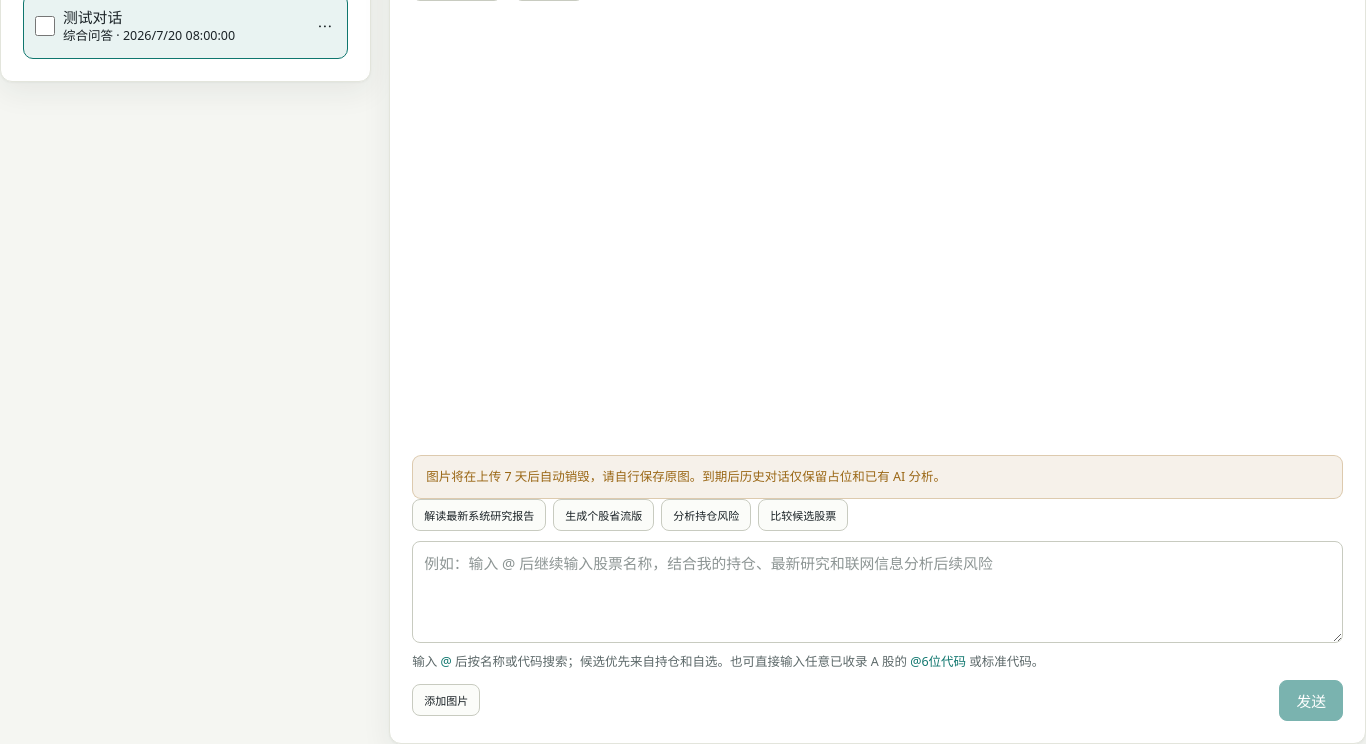
Test case: chat safety and observability › preserves a selected stock mention when appending a quick question
This screenshot has width=1366, height=744.
(page scrolled)
In the text box with placeholder "例如：输入 @ 后继续输入股票名称，结合我的持仓、最新研究和联网信息分析后续风险": (878, 592) [412,541,1343,643], type "@茅"
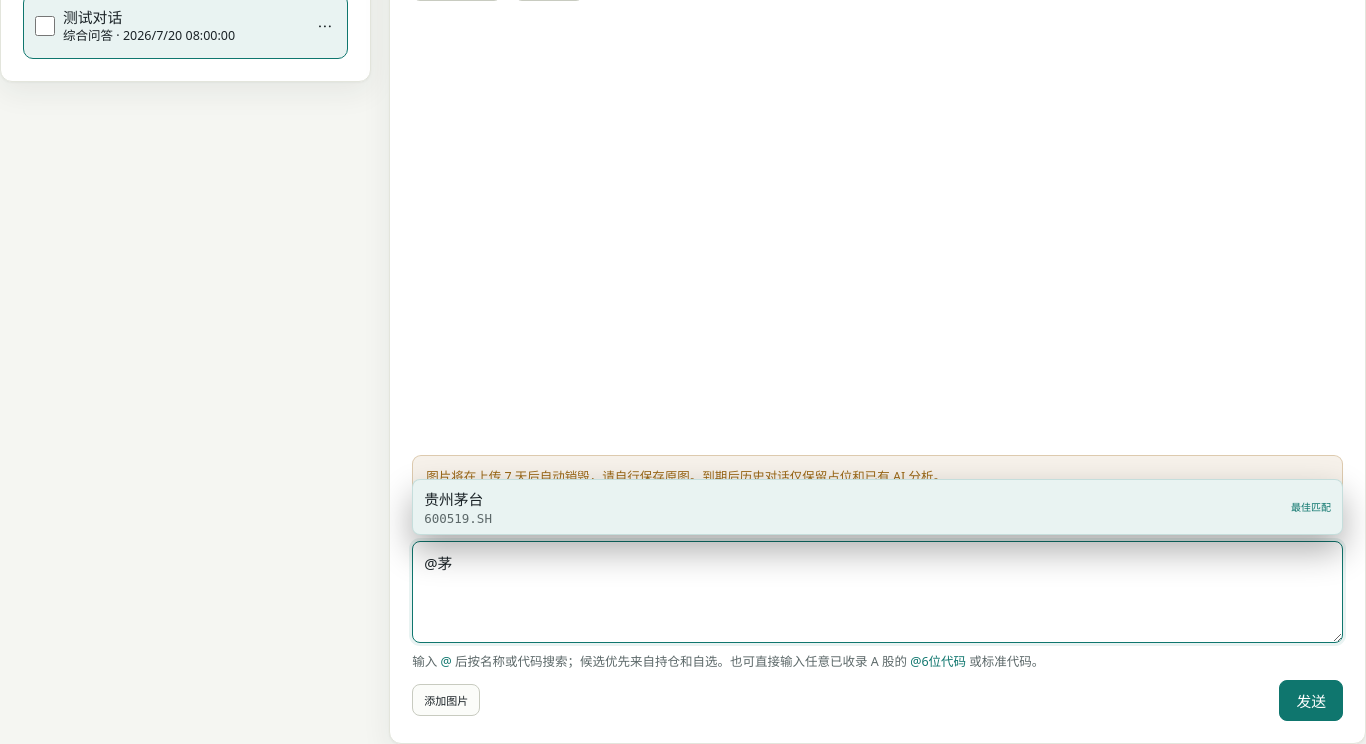
Click the option "贵州茅台 600519.SH 最佳匹配": (454, 499) [413,480,1342,534]
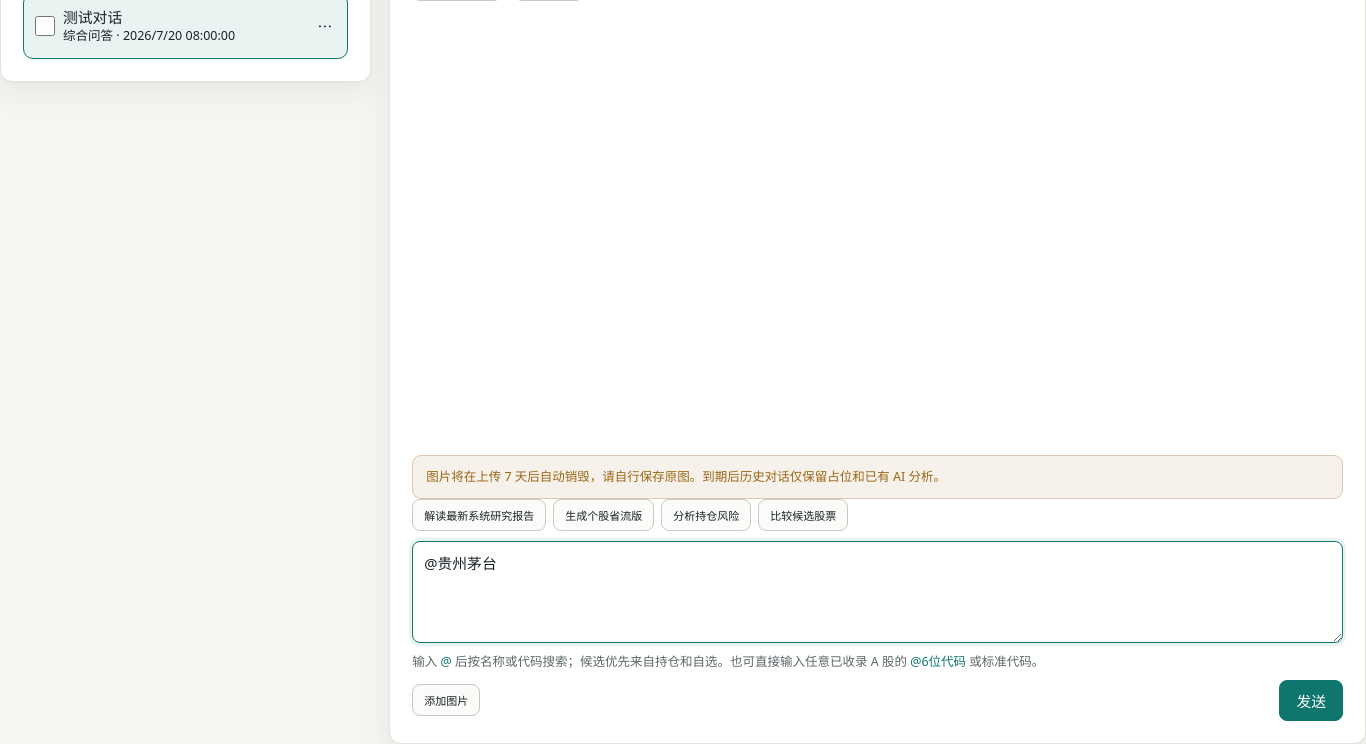
Click the button "生成个股省流版": (604, 515) [553,499,654,531]
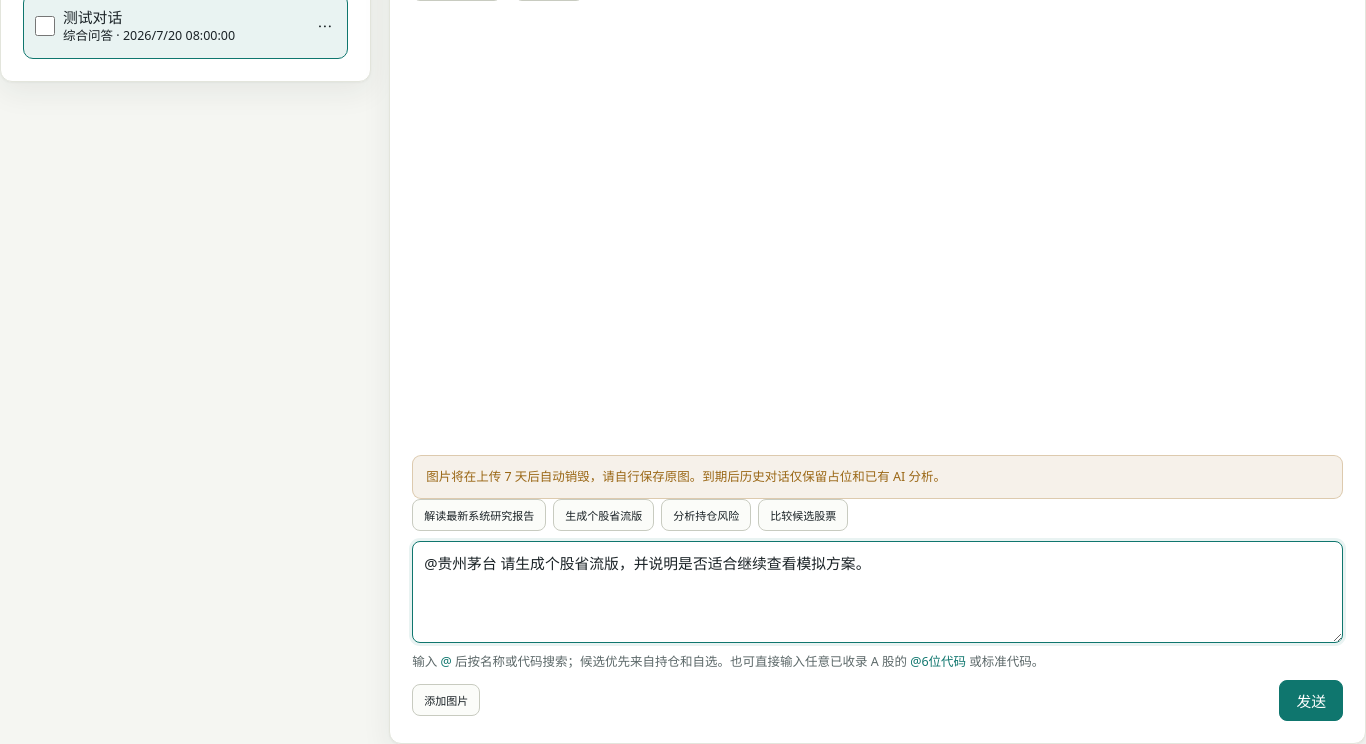
Now the text box with placeholder "例如：输入 @ 后继续输入股票名称，结合我的持仓、最新研究和联网信息分析后续风险" holds "@贵州茅台 请生成个股省流版，并说明是否适合继续查看模拟方案。", box [412,541,1343,643]
